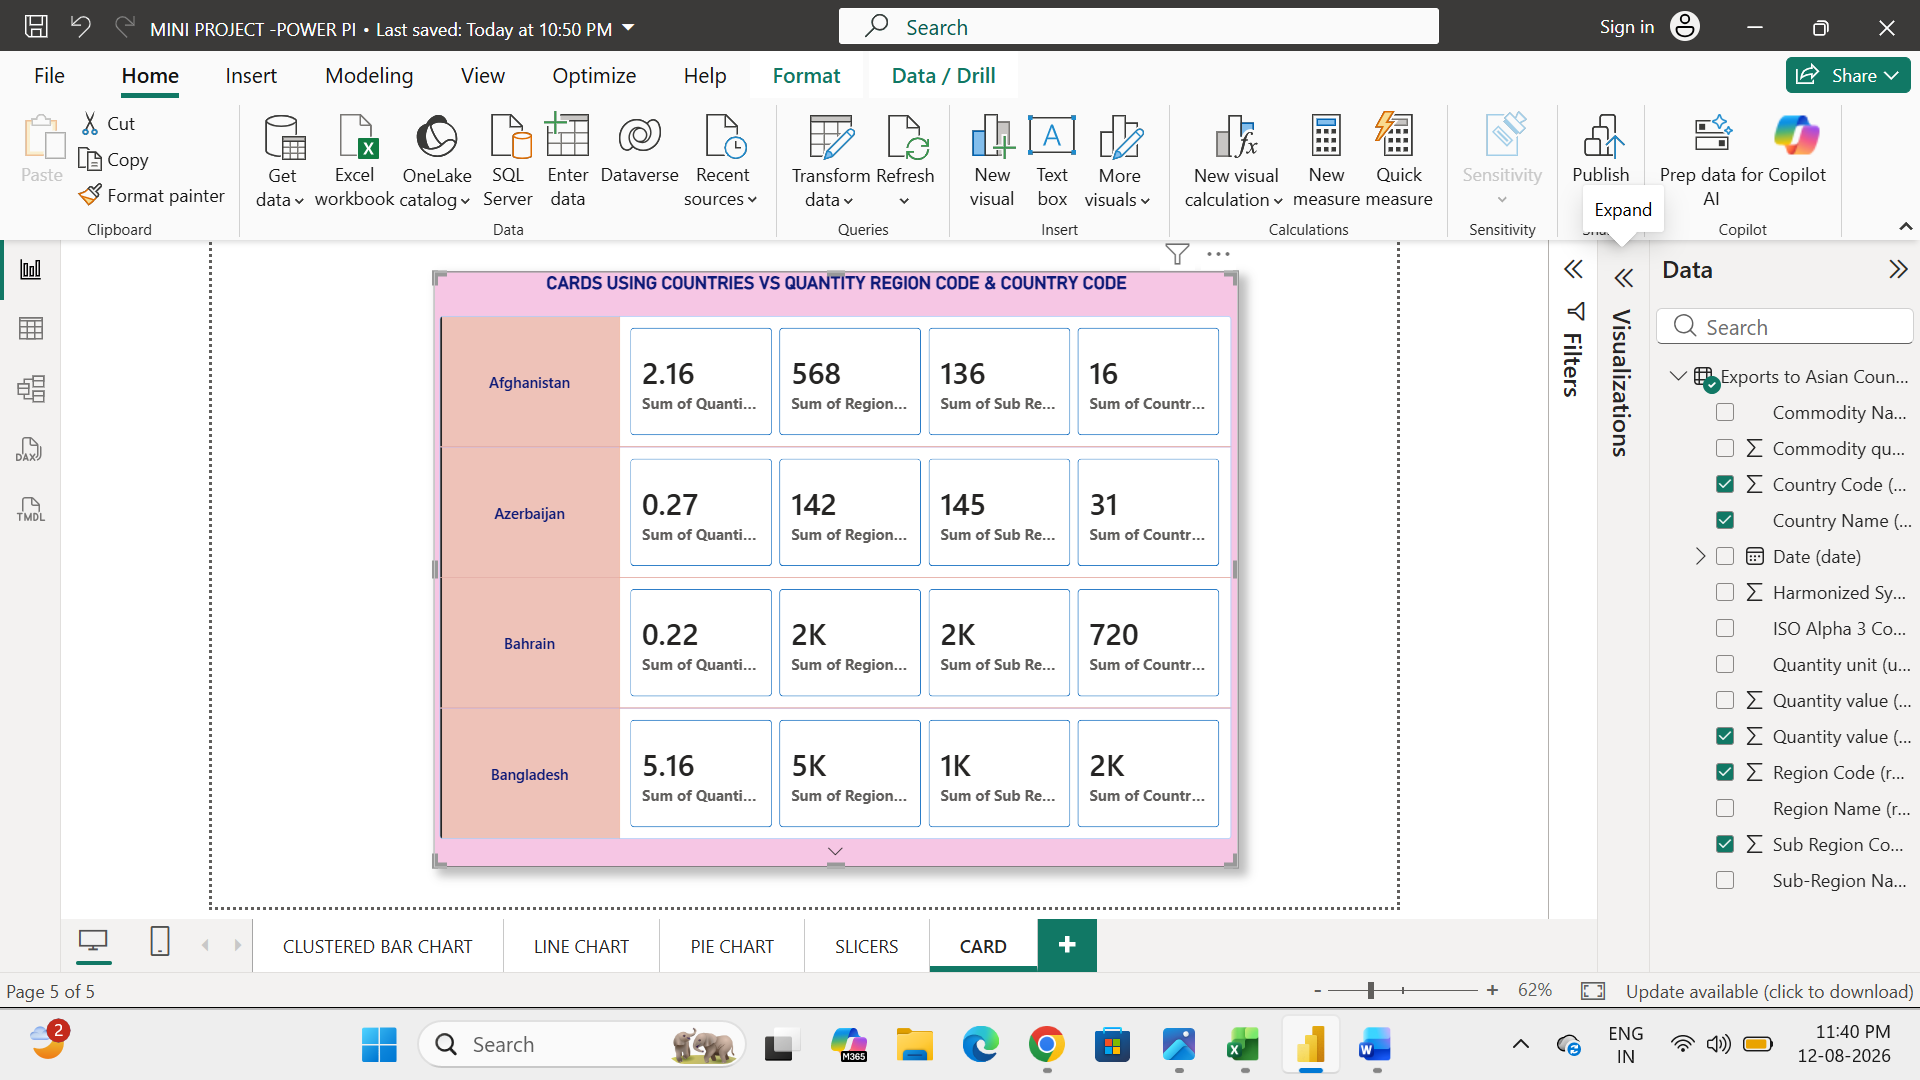

What the dashboard file says about the page in this screenshot:
{"tool":"powerbi","page":{"name":"CARD","canvas":[1280,720],"ordinal":4},"visuals":[{"type":"cardVisual","title":"CARDS USING COUNTRIES VS QUANTITY REGION CODE & COUNTRY CODE ","fields":{"Rows":["Exports to Asian Countries_Samp.Country Name (country_name)"],"Data":["Sum(Exports to Asian Countries_Samp.Quantity value (USD) (value_dl))","Sum(Exports to Asian Countries_Samp.Region Code (region_code))","Sum(Exports to Asian Countries_Samp.Sub Region Code (subregion_code))","Sum(Exports to Asian Countries_Samp.Country Code (country_code))"]},"box":[239.6,34,867.9,642.8],"z":0}]}

Visuals, with their boxes on the page's 1280x720 design canvas (x1, y1, x2, y2). These are canvas units, not pixel positions in the 1920x1080 screenshot, which may show the page scaled, cropped or inside an application window:
"CARDS USING COUNTRIES VS QUANTITY REGION CODE & COUNTRY CODE " cardVisual: bbox=[240, 34, 1108, 677]
